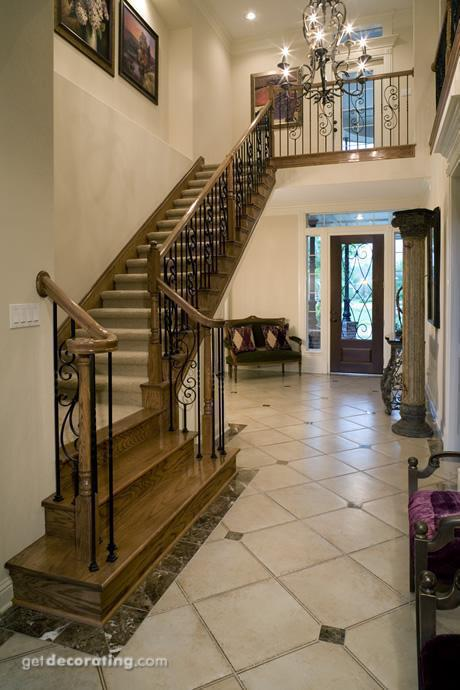Escaleras: (12, 115, 270, 621)
